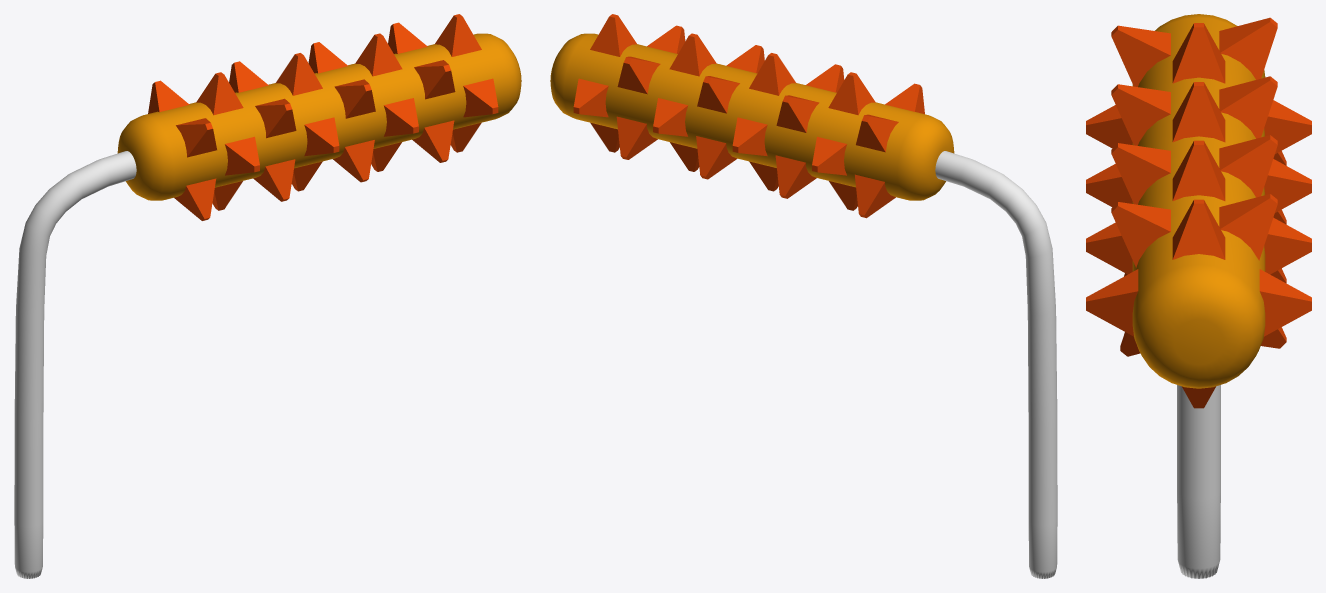
File: barrier-9.fbx
The picture shows the model from 3 angles, left to right: view 1: azimuth 30°, elevation 25°; view 2: azimuth 150°, elevation 25°; view 3: azimuth 270°, elevation 25°; orthographic projection. The views are drawn at different scales.
Parts seen in each view (by area): view 1: Cylinder.001, Cylinder.002; view 2: Cylinder.001, Cylinder.002; view 3: Cylinder.001, Cylinder.002.
Boxes of the visible parts, x1,y1,x2,y2 form: Cylinder.001: (117, 14, 521, 220); Cylinder.002: (14, 151, 136, 578); Cylinder.001: (550, 14, 954, 218); Cylinder.002: (935, 151, 1057, 578); Cylinder.001: (1086, 14, 1311, 408); Cylinder.002: (1177, 385, 1220, 578).
Bounding box in the file's own units: 703 × 619 × 184.
